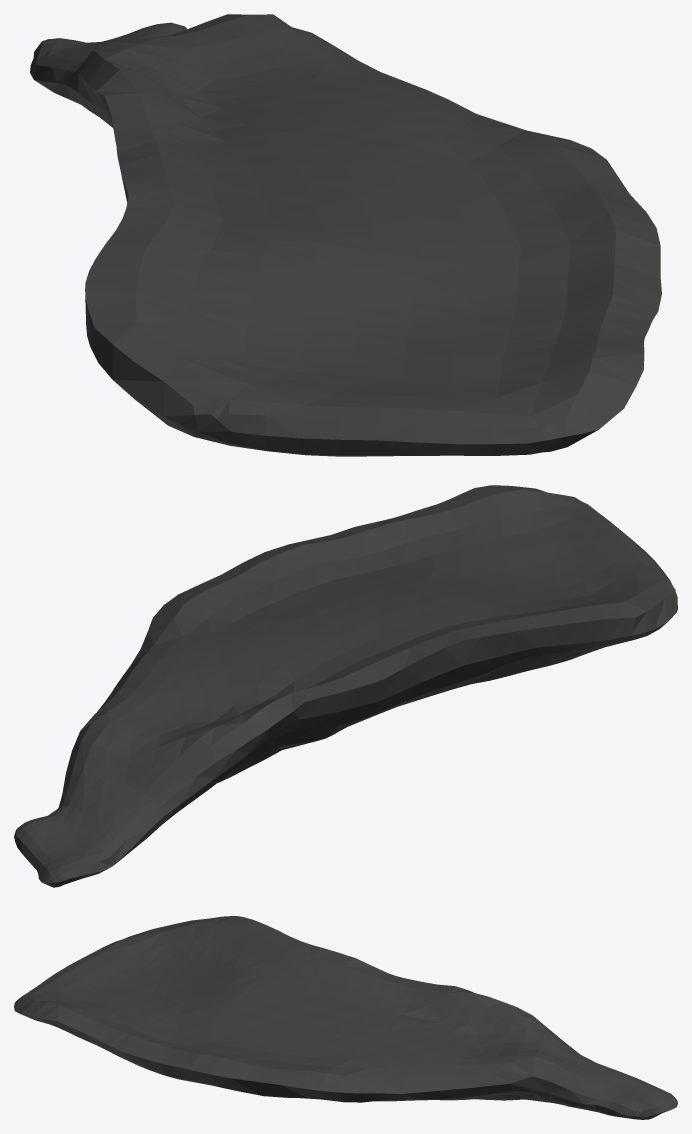
The model's file is Subscapularis_1.glb.
3 renders of one model, top to bottom at view 1: azimuth 30°, elevation 25°; view 2: azimuth 150°, elevation 25°; view 3: azimuth 270°, elevation 25°, orthographic. The views are drawn at different scales.
Visible parts, largest first — view 1: Subscapularis_1; view 2: Subscapularis_1; view 3: Subscapularis_1.
Part boxes in pixels (box(x1,y1,x2,y2)): Subscapularis_1: box(30, 14, 661, 456); Subscapularis_1: box(14, 485, 677, 887); Subscapularis_1: box(14, 916, 677, 1119).
Bounding box in the file's own units: 0.019 × 0.00573 × 0.0357.
Materials: 1 (1 with a texture image).
